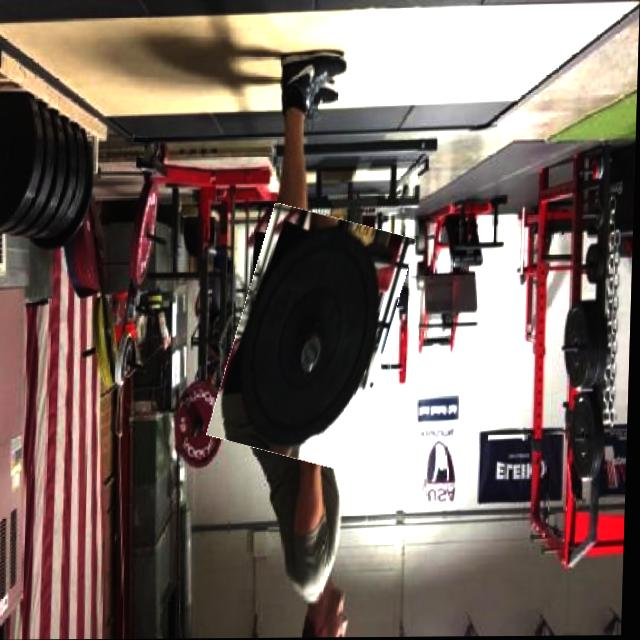barbell: (224, 210, 405, 466)
